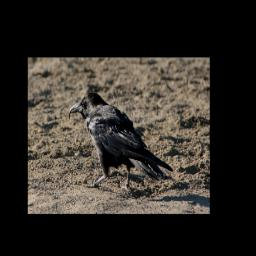Crow: (68, 90, 174, 196)
